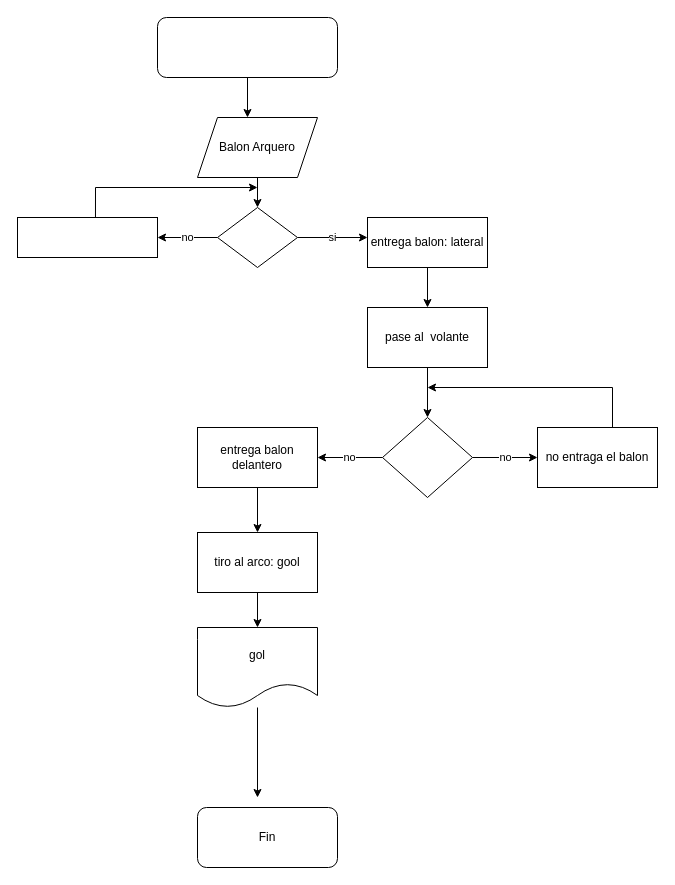
The diagram is 675 pixels wide and 885 high, and some of its shapes have lost their labels. Each missing label, with the centre of its shape:
esta libre: the point at 257,237
esta marcado delantero: the point at 427,457
Inicio: the point at 247,47
no entrega balon: the point at 87,237
